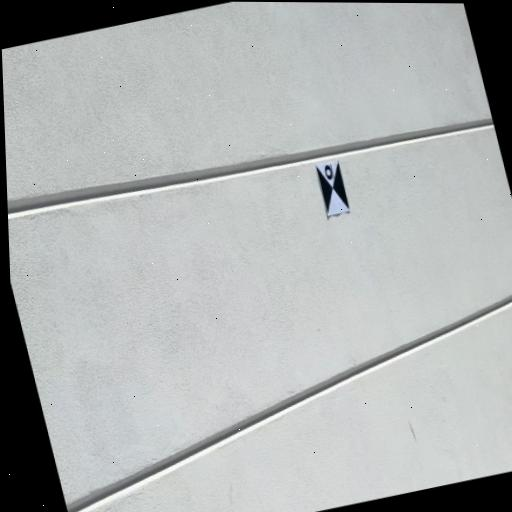target0: (314, 160, 350, 216)
